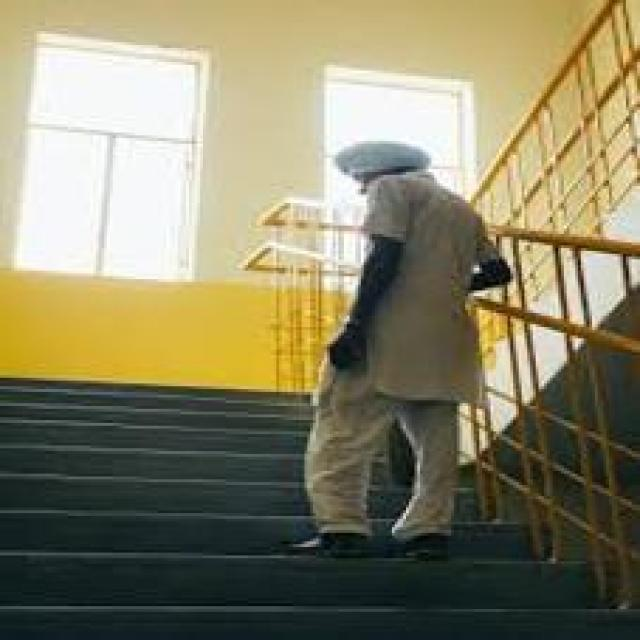upstair: (30, 410, 371, 604)
